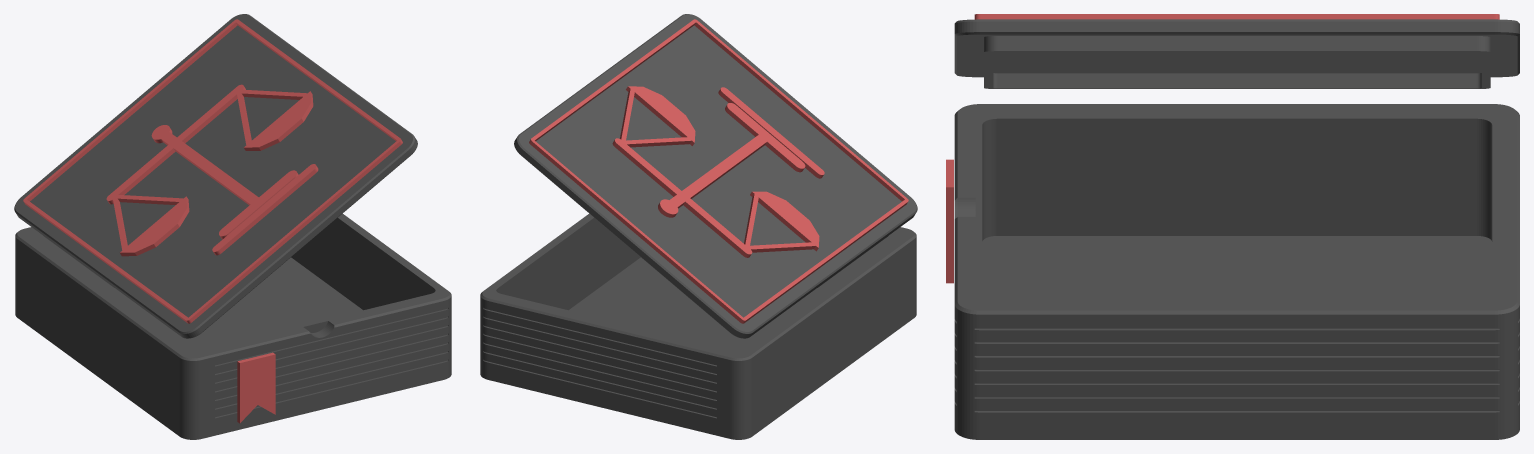
Rendered from giurisprudenza-aperto.glb.
The picture shows the model from 3 angles, left to right: view 1: azimuth 30°, elevation 25°; view 2: azimuth 150°, elevation 25°; view 3: azimuth 270°, elevation 25°; orthographic projection. The views are drawn at different scales.
Parts seen in each view (by area): view 1: 02_copertina, 01_libro_vaschetta, 04_bilancia_02, 03_cornice, 05_segnalibro, 04_bilancia_01; view 2: 01_libro_vaschetta, 02_copertina, 04_bilancia_02, 03_cornice, 04_bilancia_01; view 3: 01_libro_vaschetta, 02_copertina, 03_cornice, 05_segnalibro.
Boxes of the visible parts, x1=… form: 02_copertina: x1=14, y1=14, x2=417, y2=338; 01_libro_vaschetta: x1=15, y1=213, x2=451, y2=439; 04_bilancia_02: x1=106, y1=84, x2=313, y2=256; 03_cornice: x1=23, y1=19, x2=402, y2=323; 05_segnalibro: x1=237, y1=352, x2=275, y2=423; 04_bilancia_01: x1=212, y1=164, x2=318, y2=255; 01_libro_vaschetta: x1=480, y1=213, x2=916, y2=439; 02_copertina: x1=514, y1=14, x2=917, y2=338; 04_bilancia_02: x1=612, y1=86, x2=819, y2=257; 03_cornice: x1=529, y1=19, x2=908, y2=323; 04_bilancia_01: x1=718, y1=87, x2=824, y2=178; 01_libro_vaschetta: x1=954, y1=104, x2=1519, y2=439; 02_copertina: x1=954, y1=19, x2=1519, y2=88; 03_cornice: x1=974, y1=14, x2=1499, y2=19; 05_segnalibro: x1=946, y1=159, x2=953, y2=283.
Size of the model in its own units: 0.0983 by 0.0854 by 0.1137.
